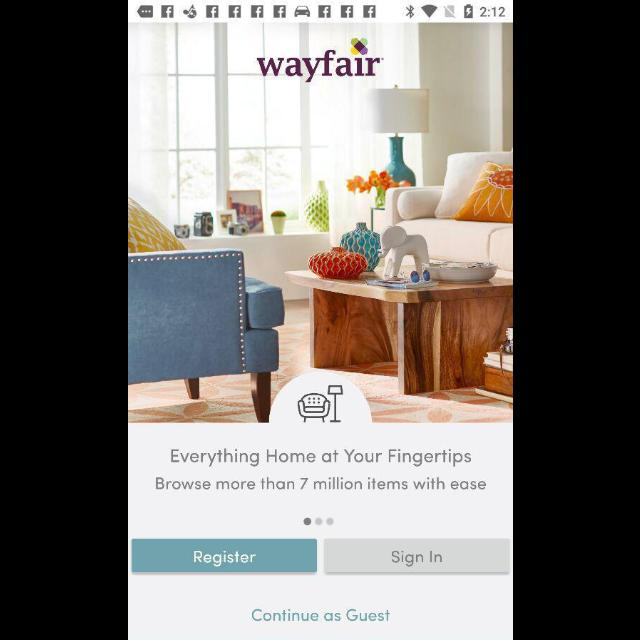image: (128, 23, 512, 423), (256, 38, 384, 84), (269, 371, 371, 423)
pageindicator: (302, 516, 334, 528)
text: (170, 448, 470, 467), (154, 477, 486, 491), (250, 608, 390, 622)
textbutton: (323, 538, 509, 576), (131, 539, 317, 573)
uppertaskbar: (128, 1, 512, 23)
